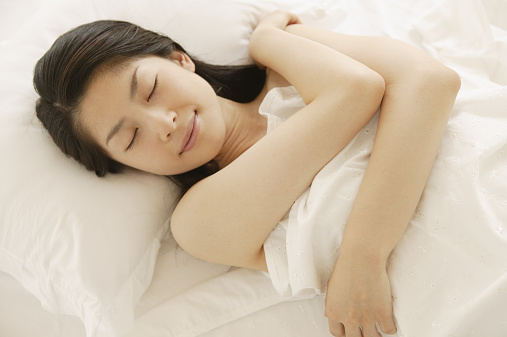deitado: (0, 0, 452, 337)
